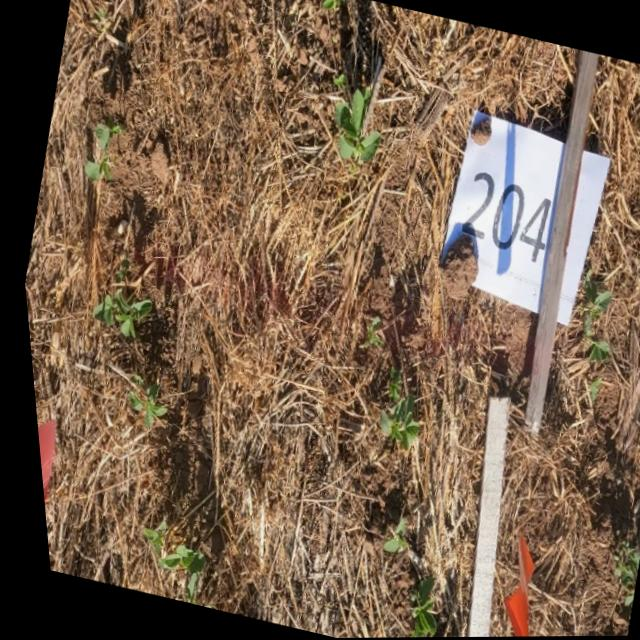soy_plant: (133, 525, 194, 604), (331, 88, 378, 164), (371, 370, 411, 450), (87, 292, 146, 337), (81, 123, 119, 181), (605, 546, 630, 615), (399, 577, 424, 638), (122, 386, 159, 423), (372, 521, 397, 554), (361, 317, 375, 346), (113, 260, 124, 281), (322, 0, 344, 10)
